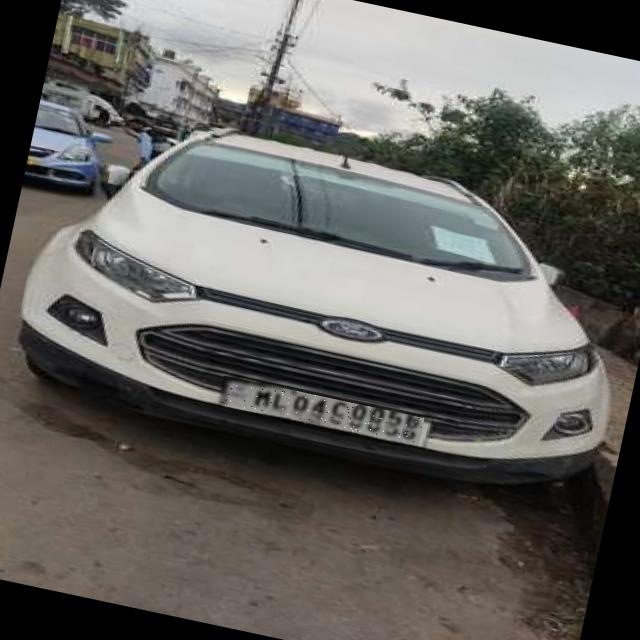Plate: (219, 376, 425, 446)
